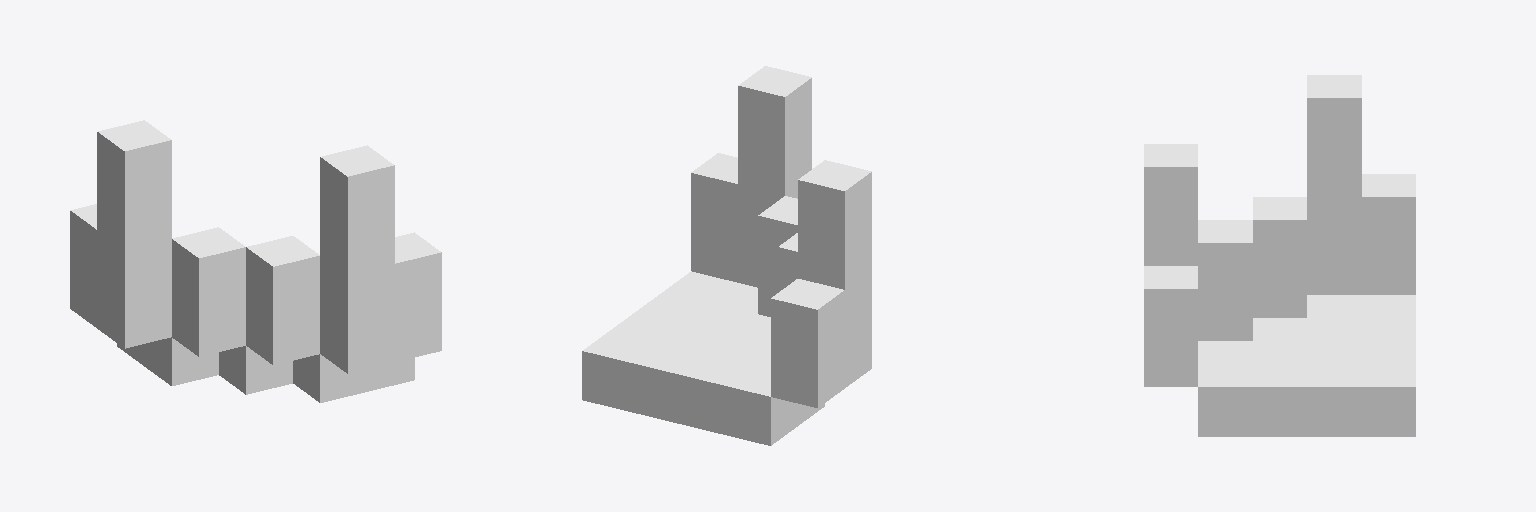
The model's file is wallroof1.obj.
3 views of the same model, side by side, from view 1: azimuth 30°, elevation 25°; view 2: azimuth 150°, elevation 25°; view 3: azimuth 270°, elevation 25° (orthographic).
Visible parts, largest first — view 1: wallroof1; view 2: wallroof1; view 3: wallroof1.
Boxes of the visible parts, x1=… form: wallroof1: x1=70, y1=120, x2=441, y2=402; wallroof1: x1=582, y1=66, x2=871, y2=445; wallroof1: x1=1144, y1=75, x2=1415, y2=436.
Bounding box in the file's own units: 5 × 5 × 5.